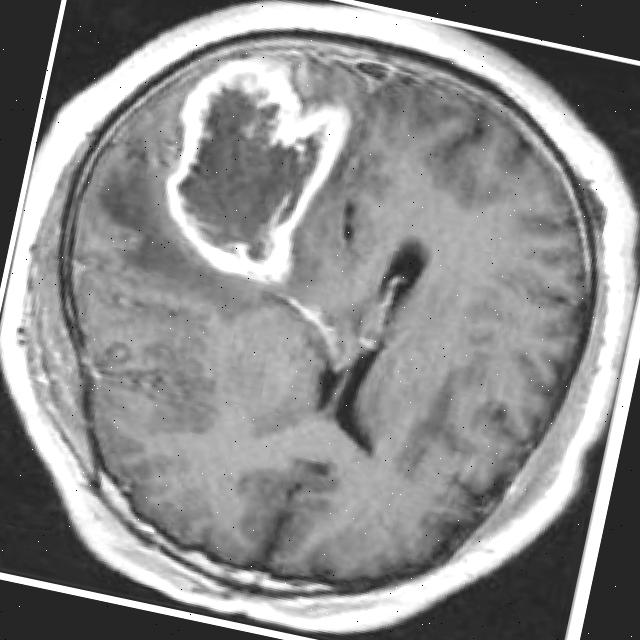tumor: (164, 59, 358, 290)
